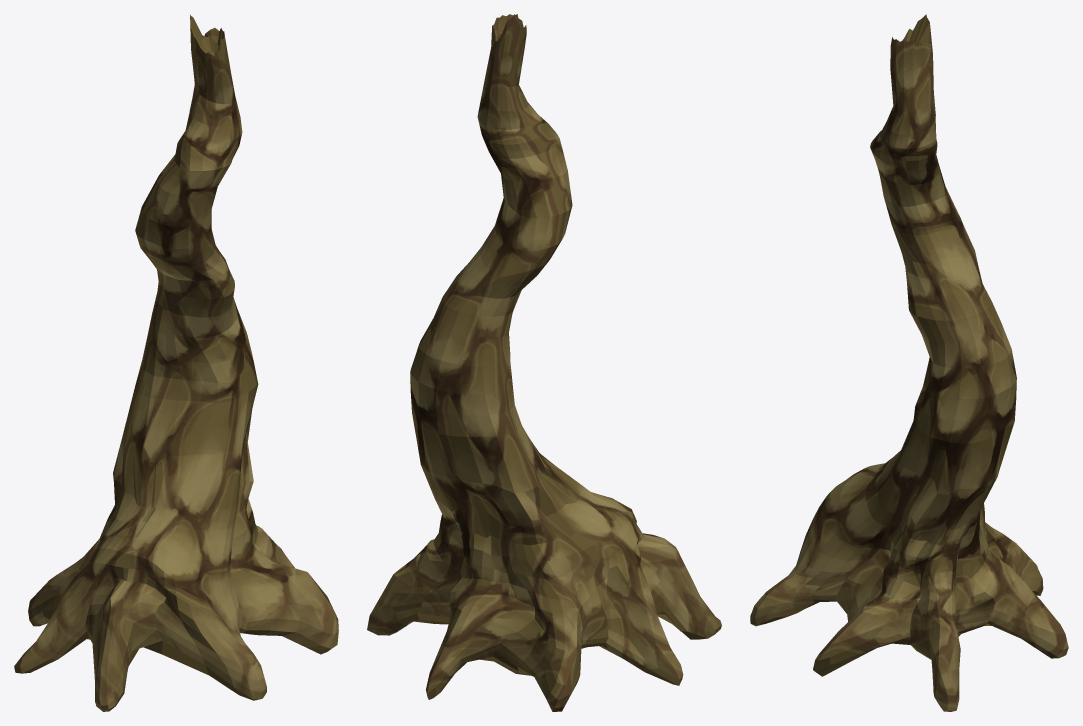
File: treeBaseCurved.fbx
The picture shows the model from 3 angles, left to right: view 1: azimuth 30°, elevation 25°; view 2: azimuth 150°, elevation 25°; view 3: azimuth 270°, elevation 25°; orthographic projection.
Parts seen in each view (by area): view 1: pCylinder19; view 2: pCylinder19; view 3: pCylinder19.
Boxes of the visible parts, left/top/right/bottom form: pCylinder19: left=14, top=14, right=338, bottom=711; pCylinder19: left=367, top=14, right=721, bottom=711; pCylinder19: left=750, top=14, right=1068, bottom=711.
Bounding box in the file's own units: 619 × 1251 × 566.
